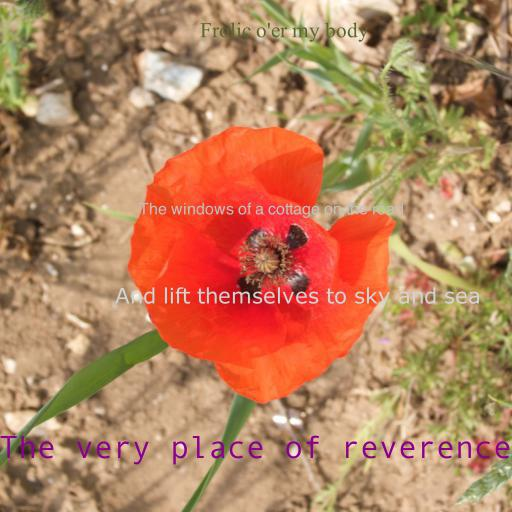Andale Mono: (0, 435, 512, 465)
Impact: (138, 202, 404, 218)
Times New Roman: (199, 22, 369, 42)
Verdana: (115, 287, 481, 308)
